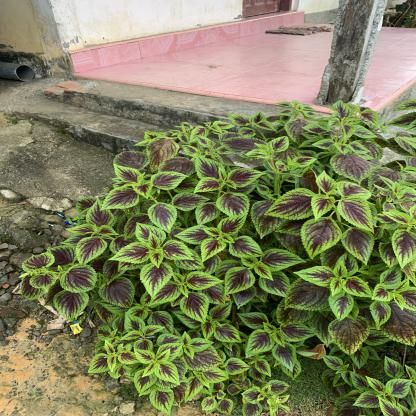Bunga Coleus: (82, 136, 402, 395)
